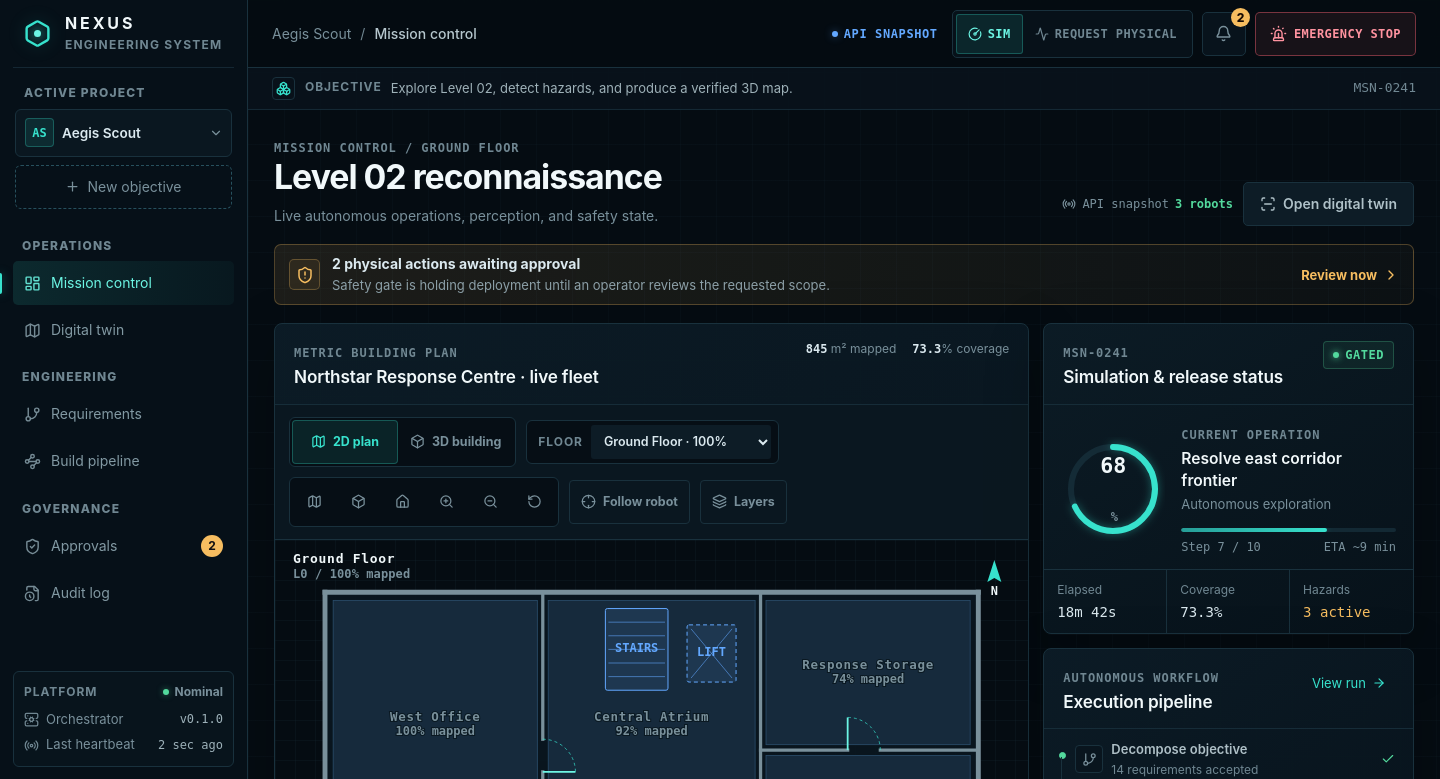
Test: NEXUS operations console › keeps physical state unchanged when an approval request is rejected
expect the text "API SNAPSHOT" is shown: met, box [827, 26, 943, 40]
Click the button with aria-label "Request physical approval". click: (1106, 34)
box: [1023, 14, 1189, 54]
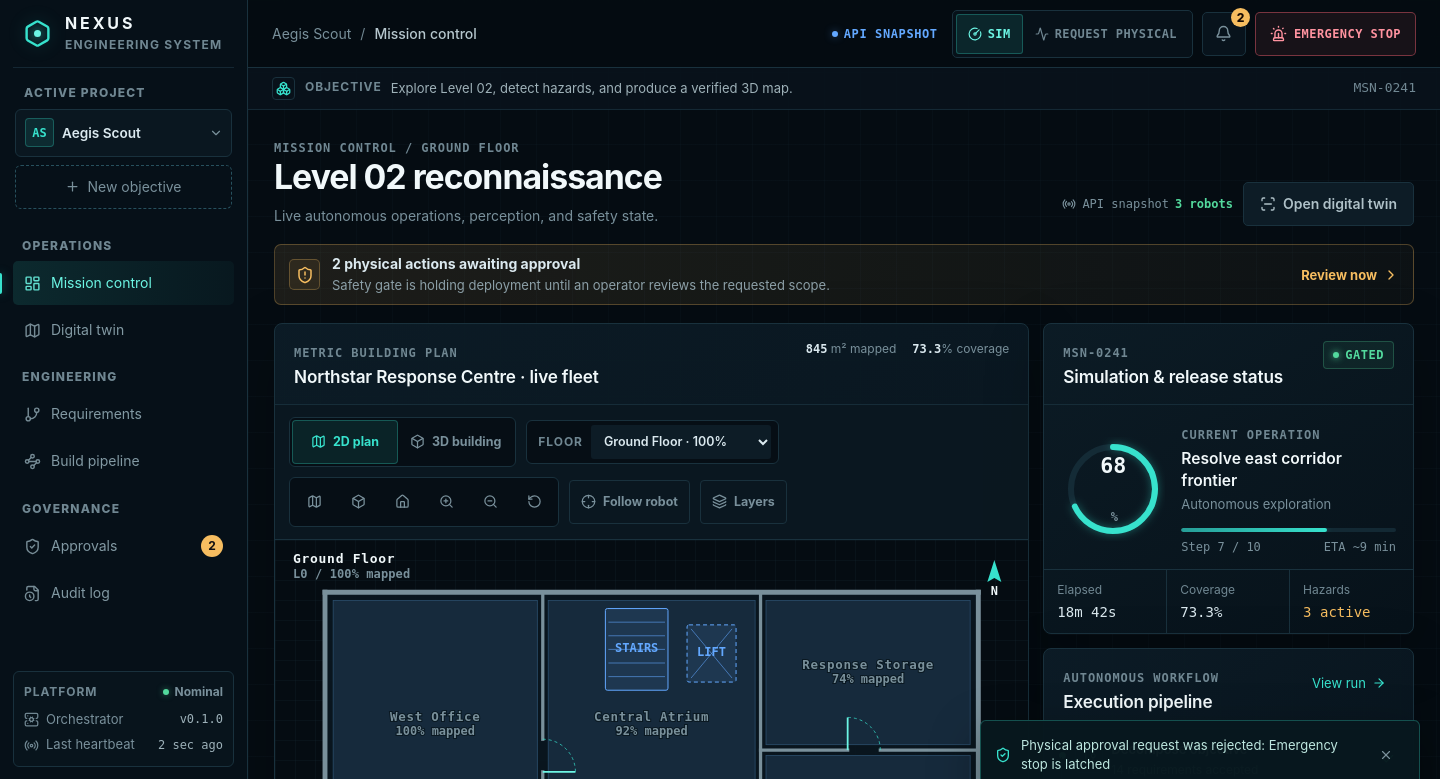
expect the heading "Resolve east corridor frontier" is shown: met, box [1181, 449, 1342, 490]
expect the text "Physical approval request was rejected: Emergency stop is latched" is shown: met, box [1021, 736, 1354, 774]
